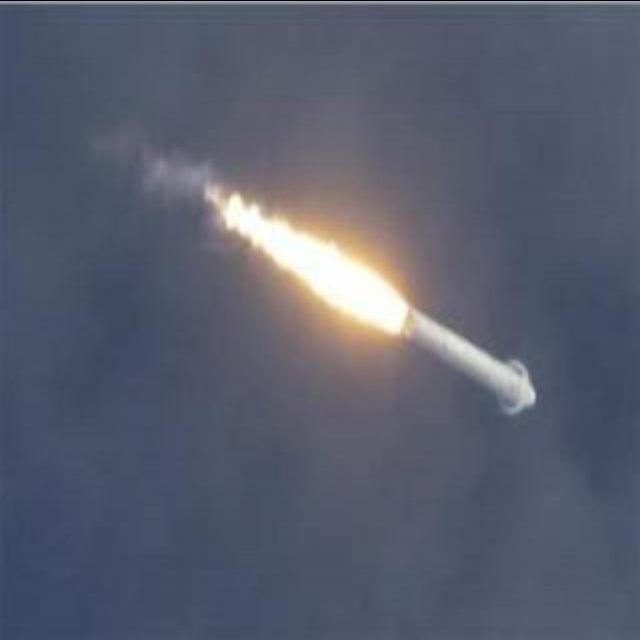Missile: (382, 284, 540, 418)
